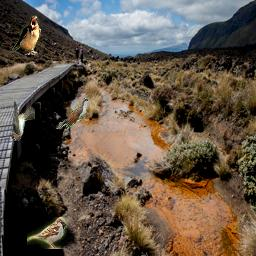Cuckoo: (56, 98, 90, 129)
Sparrow: (27, 217, 67, 249)
Swallow: (12, 15, 41, 55), (11, 101, 35, 141)
